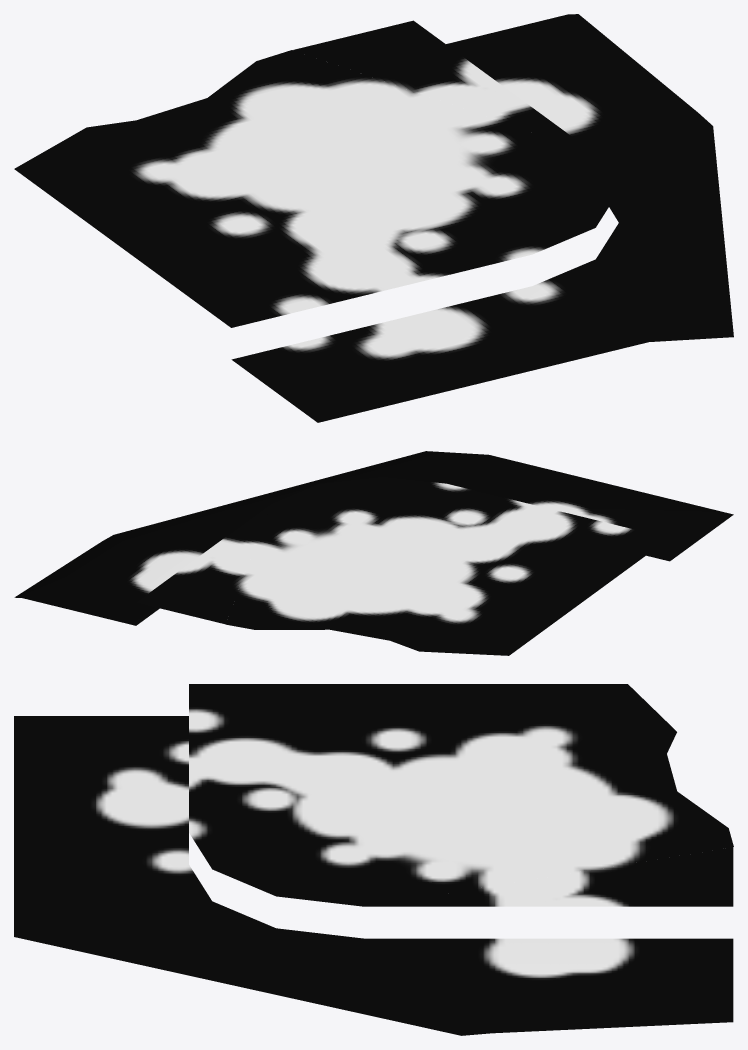
Rendered from pollution.dae.
The picture shows the model from 3 angles, top to bottom: view 1: azimuth 30°, elevation 25°; view 2: azimuth 150°, elevation 25°; view 3: azimuth 270°, elevation 25°; orthographic projection. The views are drawn at different scales.
Parts seen in each view (by area): view 1: n0b0; view 2: n0b0; view 3: n0b0.
Part boxes in pixels (<box>): n0b0: <box>14,14,733,422</box>; n0b0: <box>14,451,733,655</box>; n0b0: <box>14,684,733,1035</box>.
Bounding box in the file's own units: 4096 × 300 × 4100.
Materials: 1 (1 with a texture image).
